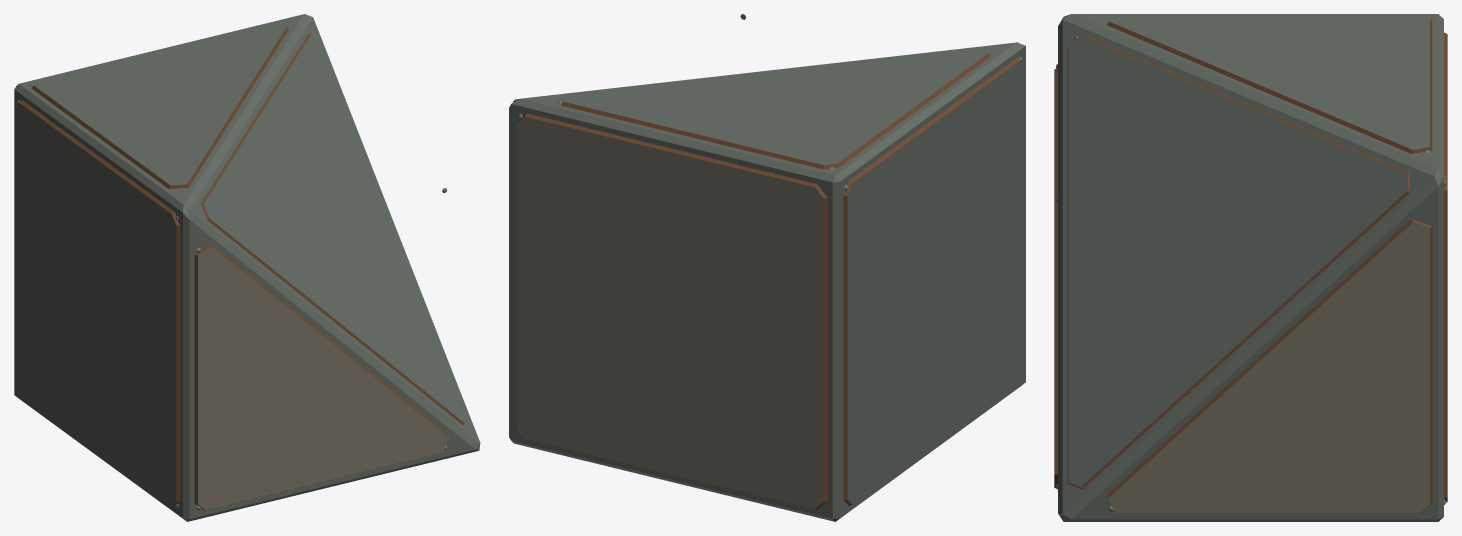
Rendered from R4B_InnerCorner.fbx.
The picture shows the model from 3 angles, left to right: view 1: azimuth 30°, elevation 25°; view 2: azimuth 150°, elevation 25°; view 3: azimuth 270°, elevation 25°; orthographic projection. The views are drawn at different scales.
Visible parts, largest first — view 1: R4B_InnerCorner; view 2: R4B_InnerCorner; view 3: R4B_InnerCorner.
Part boxes in pixels (x1,y1,x2,y2): R4B_InnerCorner: (14,14,480,521); R4B_InnerCorner: (509,14,1025,521); R4B_InnerCorner: (1054,14,1447,521).
Bounding box in the file's own units: 0.52 × 0.52 × 0.52.
